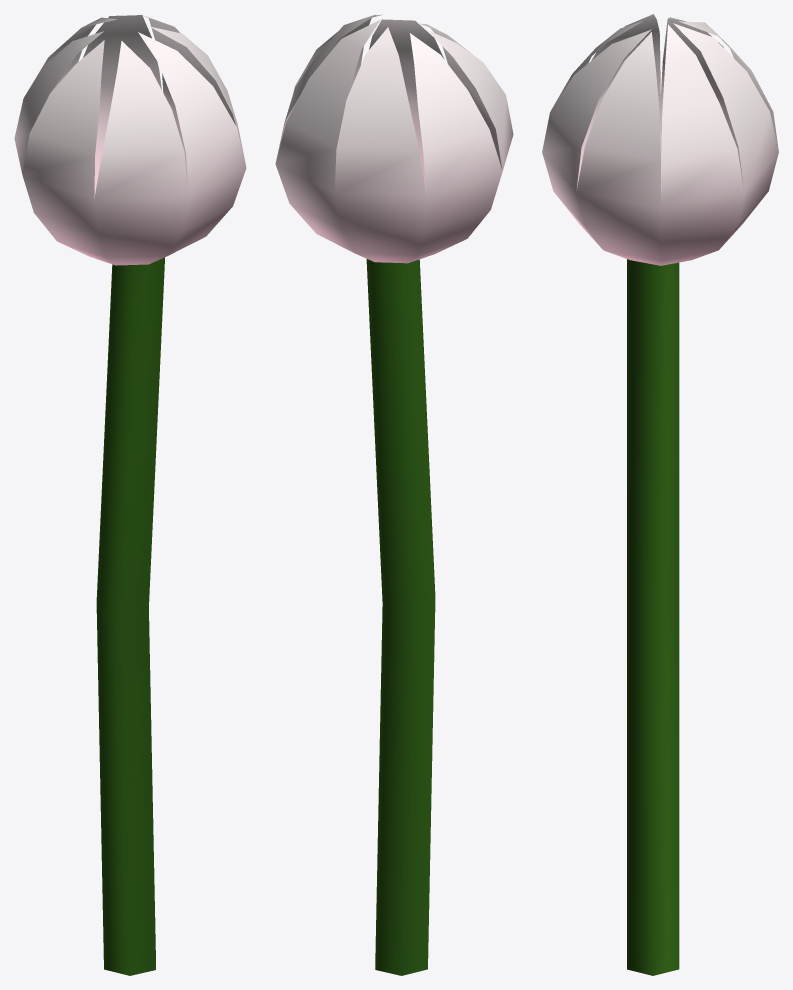
Rendered from lotus.FBX.
3 renders of one model, left to right at view 1: azimuth 30°, elevation 25°; view 2: azimuth 150°, elevation 25°; view 3: azimuth 270°, elevation 25°, orthographic.
Visible parts, largest first — view 1: lotus; view 2: lotus; view 3: lotus.
Boxes of the visible parts, <box> form: lotus: <box>14,15,246,975</box>; lotus: <box>275,14,513,975</box>; lotus: <box>542,14,778,975</box>.
Size of the model in its own units: 0.1186 by 0.4958 by 0.1124.
1 material, 1 textured.
